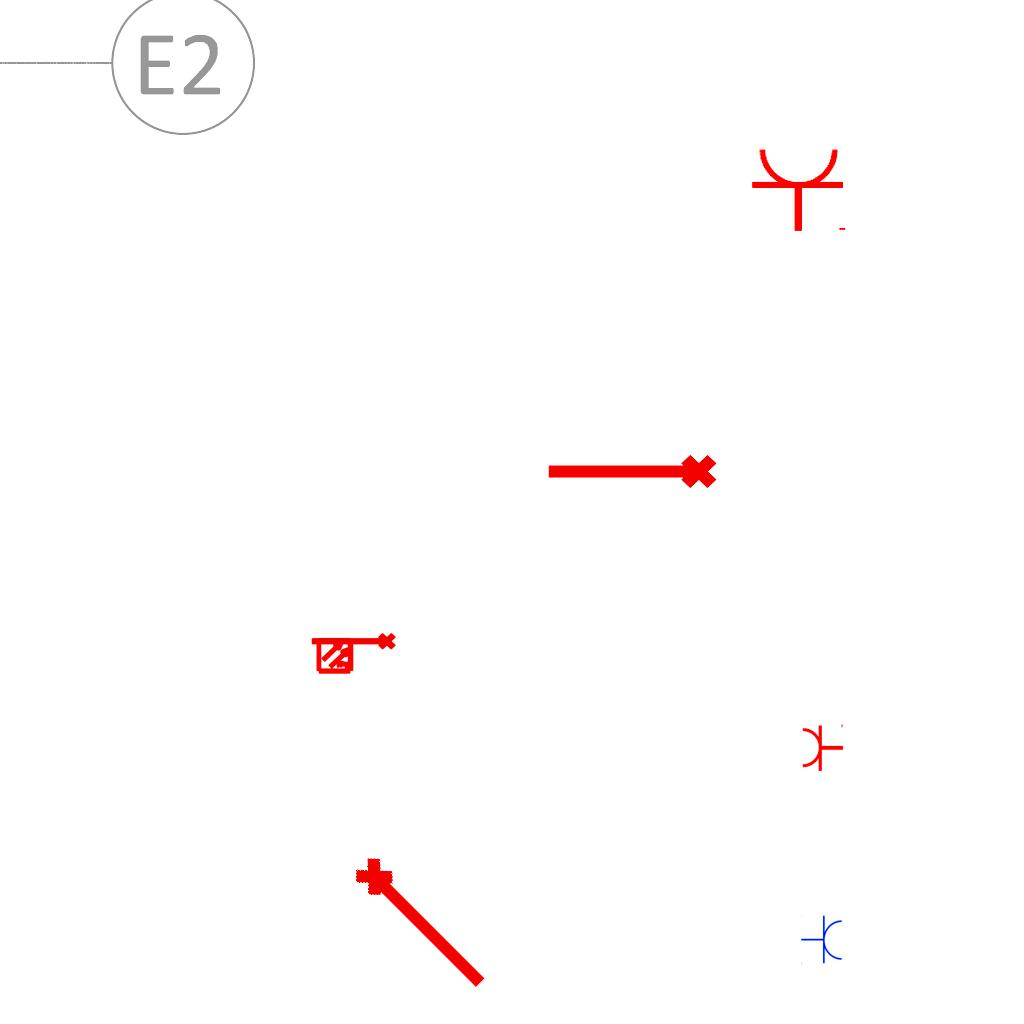ASR_Ansaugoeffnung: (345, 844, 503, 1002), (543, 451, 719, 497), (309, 631, 397, 654)
OT_Multisensormelder_(Kombination_RMO_WMD): (308, 628, 364, 684)
Schukosteckdose_einfach: (750, 146, 850, 233), (801, 915, 844, 965), (801, 722, 844, 772)
